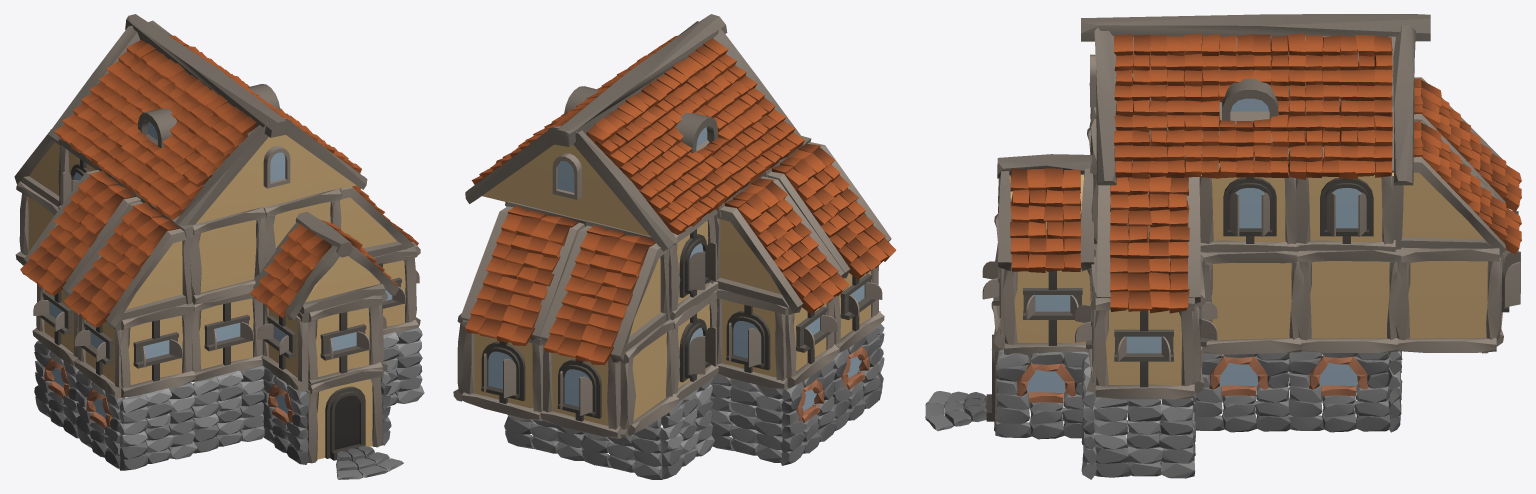
Rendered from big_building3.fbx.
3 renders of one model, left to right at view 1: azimuth 30°, elevation 25°; view 2: azimuth 150°, elevation 25°; view 3: azimuth 270°, elevation 25°, orthographic. The views are drawn at different scales.
Visible parts, largest first — view 1: big_building3; view 2: big_building3; view 3: big_building3.
Part boxes in pixels (x1,y1,x2,y2): big_building3: (14, 14, 424, 479); big_building3: (453, 14, 895, 479); big_building3: (925, 14, 1521, 479).
Bounding box in the file's own units: 22.68 × 20.64 × 29.48.
